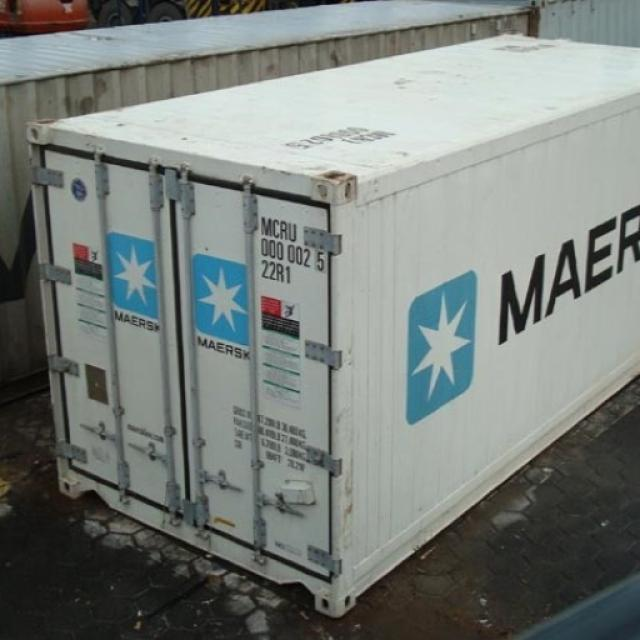ISO: (258, 262, 292, 284)
container_number: (260, 206, 328, 271)
